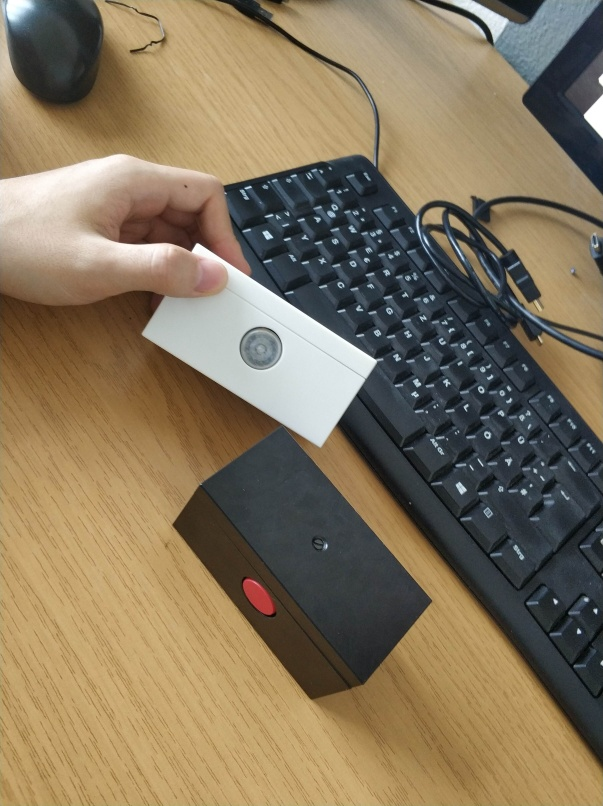black+black+red: (173, 427, 436, 701)
white+white+silver: (138, 241, 383, 446)
